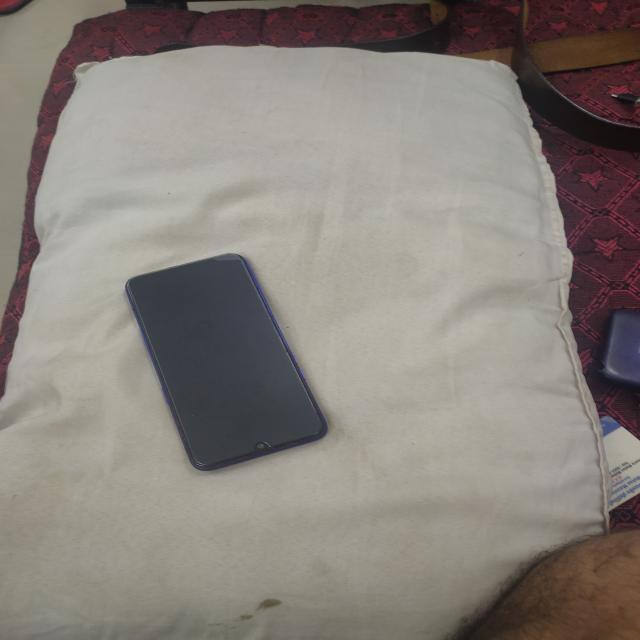Phone: (120, 246, 334, 477)
